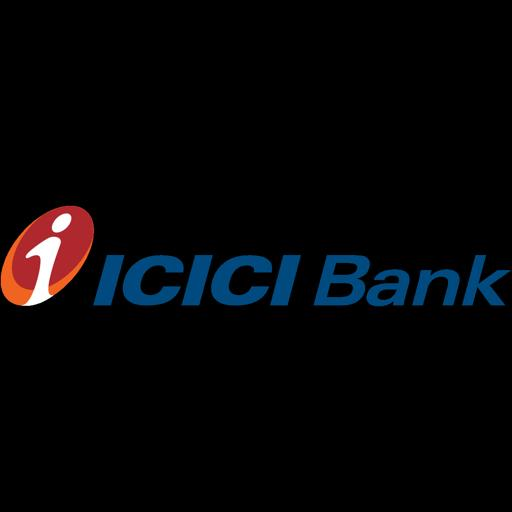ICICI Bank Limited: (0, 205, 512, 307)
